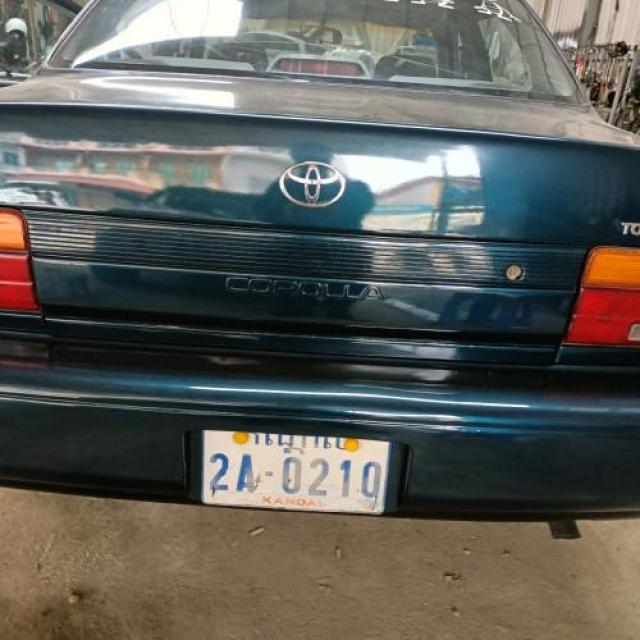Kandal: (247, 431, 349, 454)
